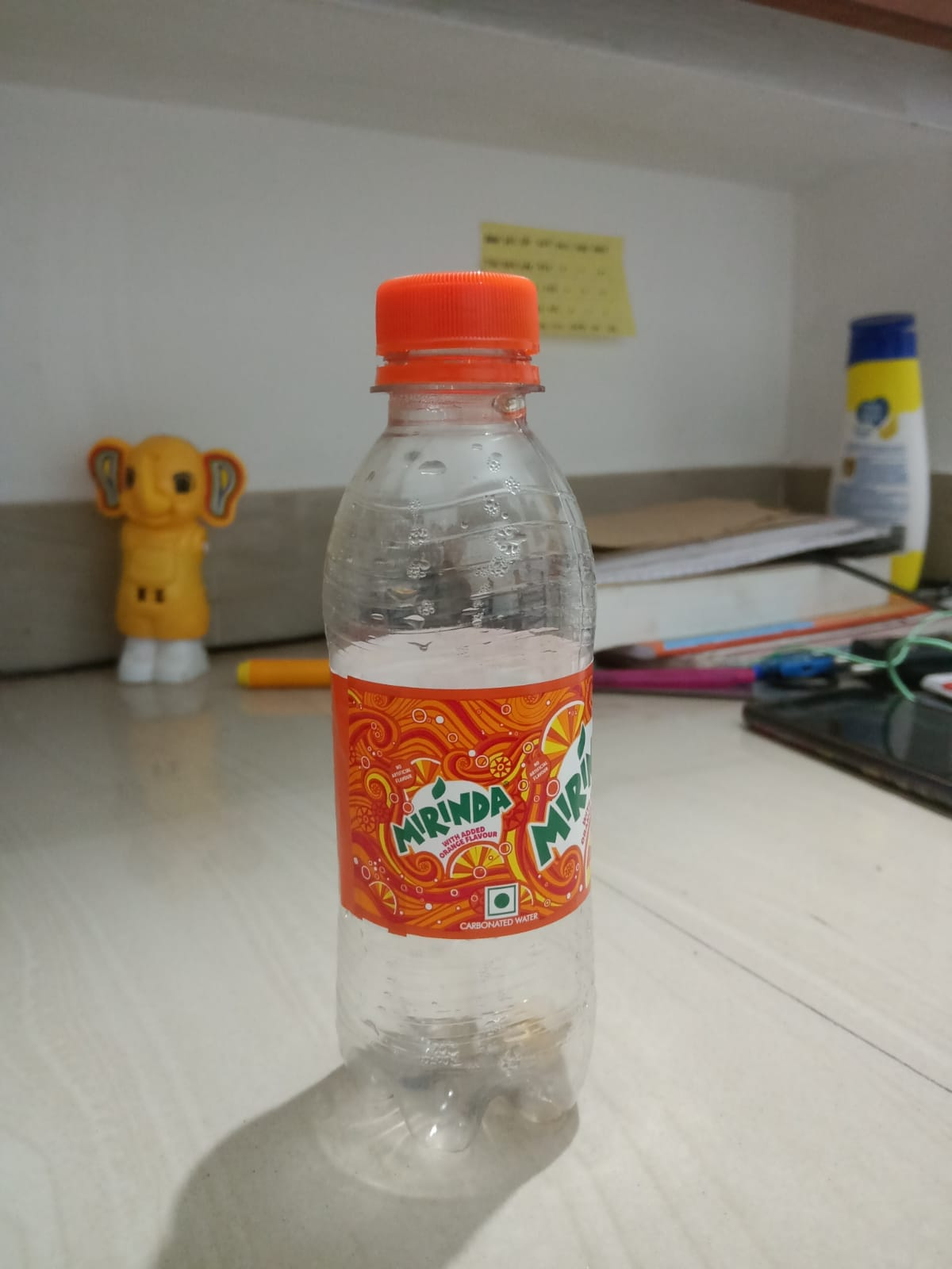plastic: (257, 241, 638, 1159)
